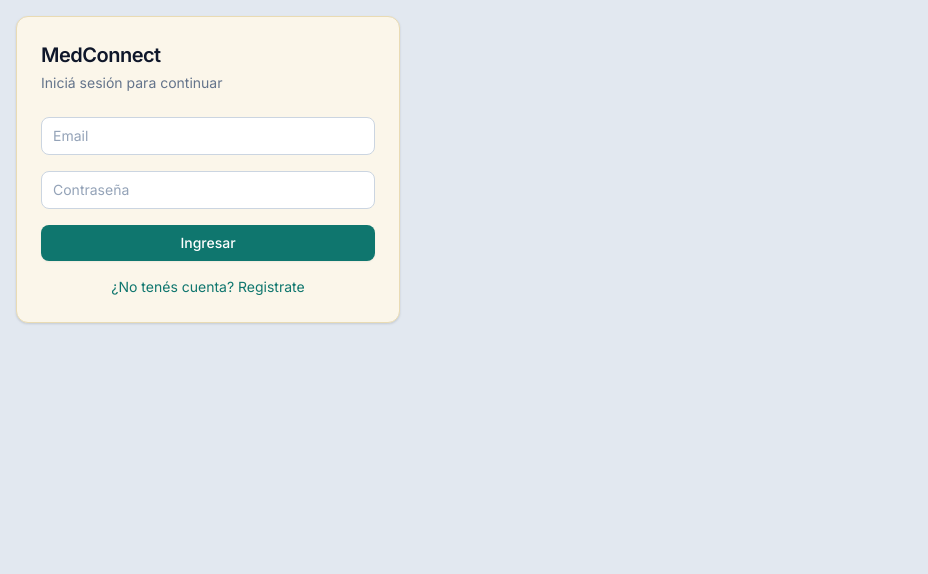
Test case: LoginScreen › muestra un mensaje de error si el login falla
The width and height of the screenshot is (928, 574).
Step 1. Type "ana@medconnect.com" into the field labelled "Email" → coordinates (208, 136), box [41,116,375,154]
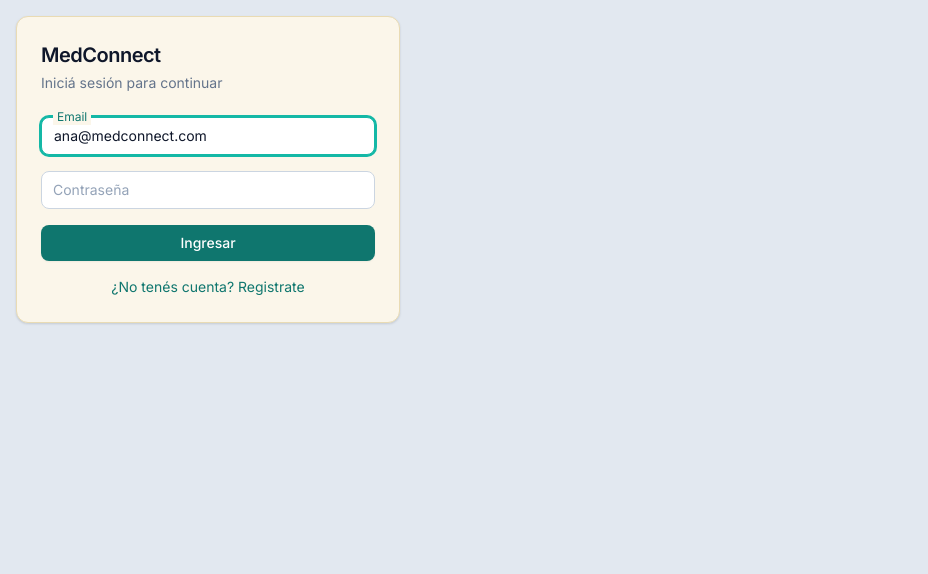
Step 2. Type "mala" into the password field labelled "Contraseña" → coordinates (208, 190), box [41,170,375,208]
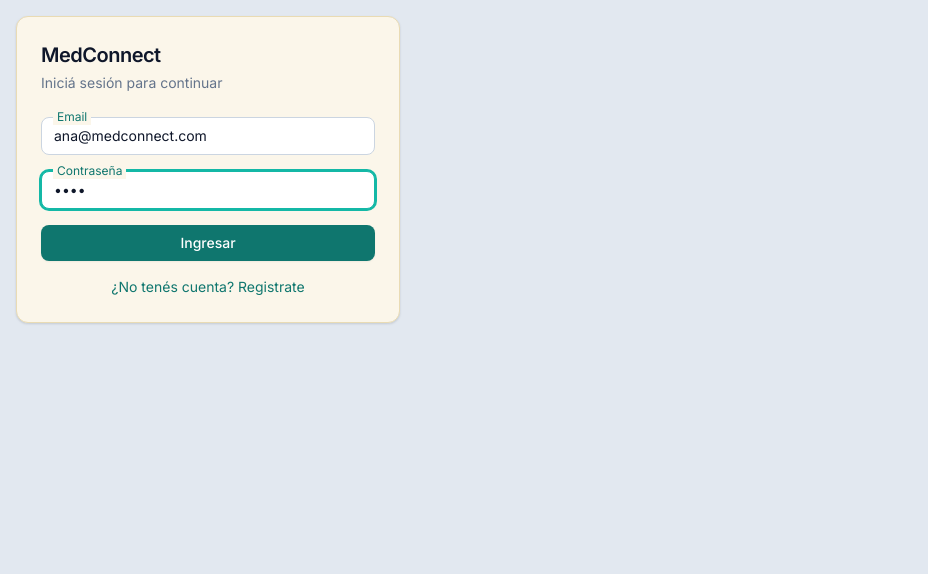
Step 3. Click the button "Ingresar" → coordinates (208, 242), box [41,224,375,260]
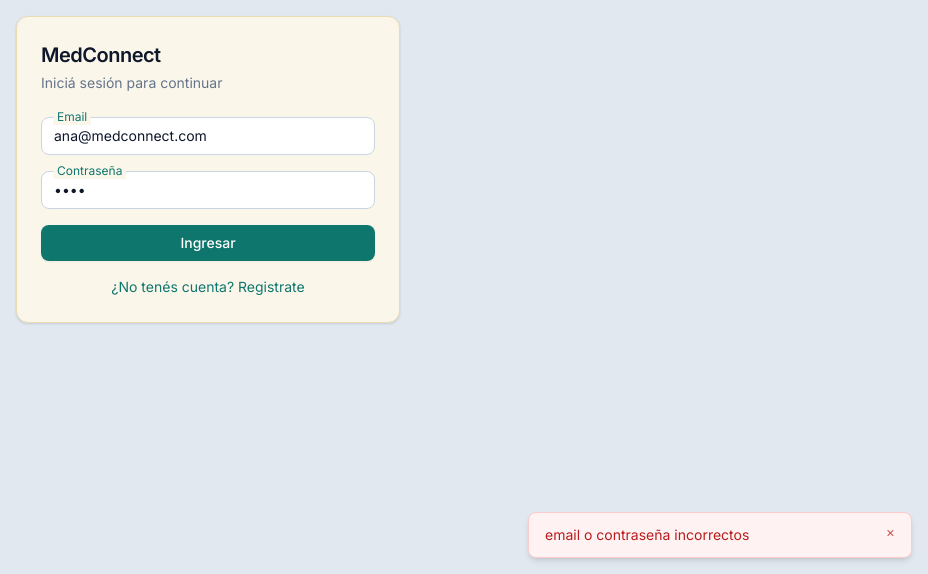
Expected: the text "Iniciá sesión para continuar" is shown, [41,74,222,90]
Now the text "email o contraseña incorrectos" is shown, box [545,526,749,543]
